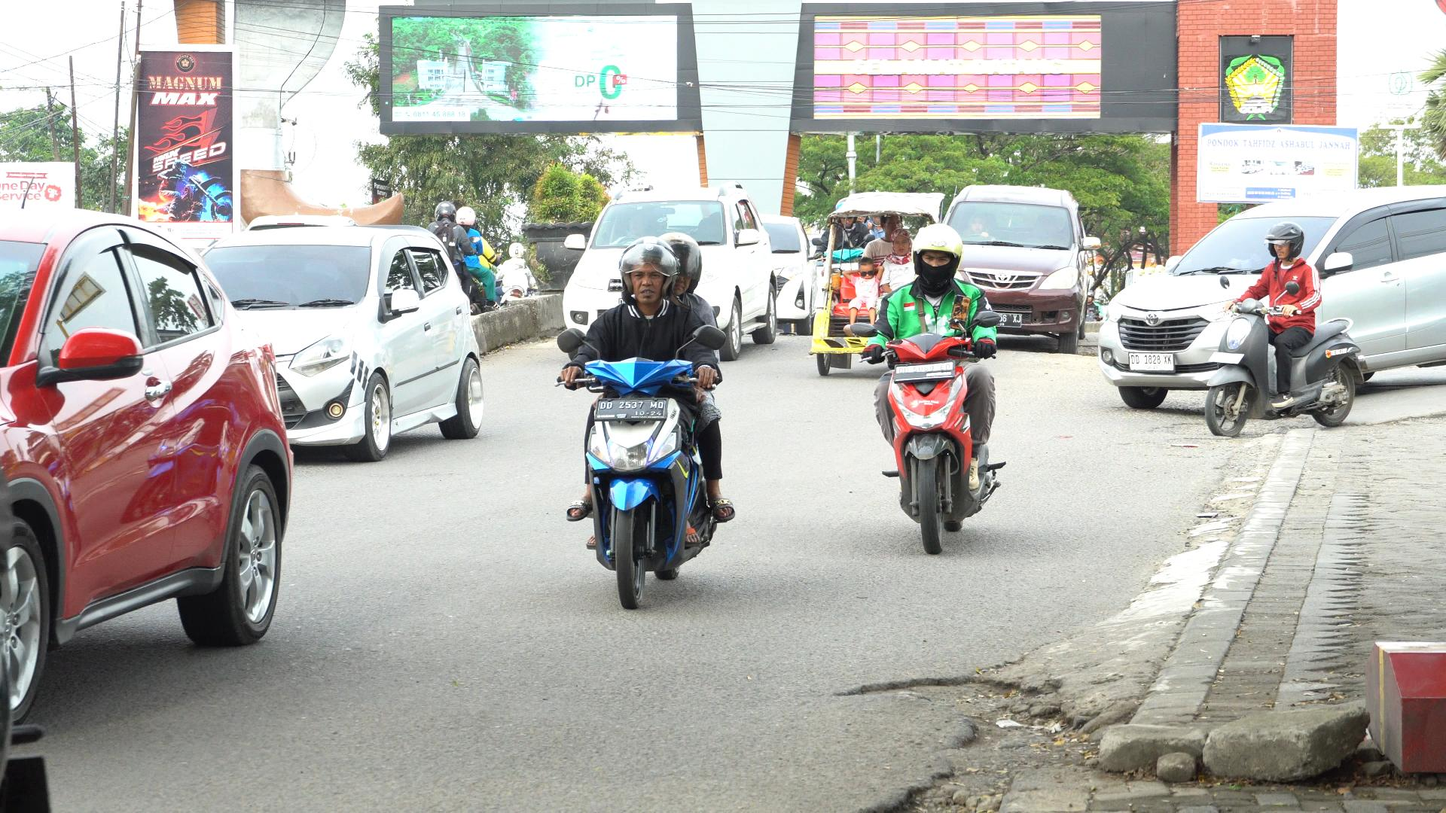number-plate: (587, 398, 673, 422), (889, 360, 957, 381)
